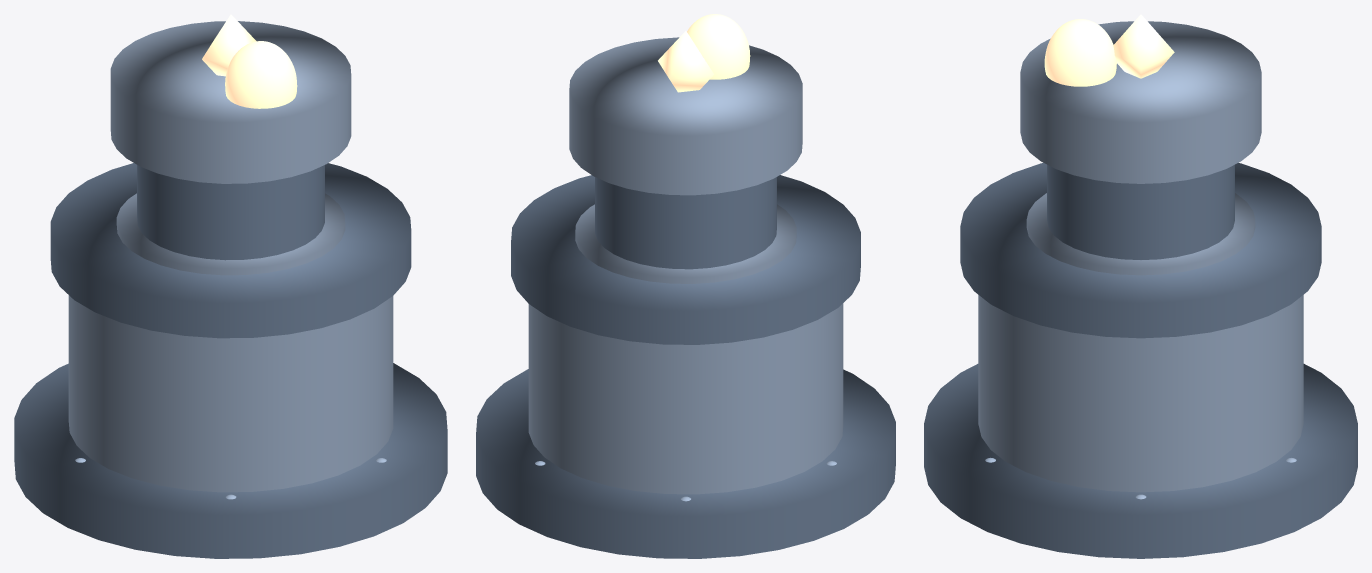
Rendered from fire_l4.glb.
3 views of the same model, side by side, from view 1: azimuth 30°, elevation 25°; view 2: azimuth 150°, elevation 25°; view 3: azimuth 270°, elevation 25° (orthographic). The views are drawn at different scales.
Parts seen in each view (by area): view 1: base, footing, baseCollar, brazier, shaft, lowerTrim, ember, spinCrystal; view 2: base, footing, baseCollar, brazier, shaft, lowerTrim, ember, spinCrystal; view 3: base, footing, baseCollar, brazier, shaft, lowerTrim, ember, spinCrystal.
Boxes of the visible parts, x1,y1,x2,y2 form: base: (68, 295, 393, 492); footing: (14, 363, 447, 558); baseCollar: (50, 163, 411, 338); brazier: (110, 21, 351, 183); shaft: (137, 165, 324, 260); lowerTrim: (116, 193, 345, 275); ember: (225, 41, 297, 108); spinCrystal: (202, 14, 256, 76); base: (528, 303, 843, 494); footing: (476, 369, 895, 558); baseCollar: (511, 175, 860, 344); brazier: (569, 37, 802, 195); shaft: (595, 177, 776, 269); lowerTrim: (575, 204, 796, 283); ember: (687, 14, 750, 79); spinCrystal: (658, 31, 713, 92); base: (978, 295, 1303, 492); footing: (924, 364, 1357, 558); baseCollar: (960, 163, 1321, 338); brazier: (1020, 21, 1261, 183); shaft: (1047, 164, 1234, 259); lowerTrim: (1026, 193, 1255, 275); ember: (1044, 19, 1116, 86); spinCrystal: (1113, 14, 1174, 78).
Size of the model in its own units: 1.8 by 2.07 by 1.8.
